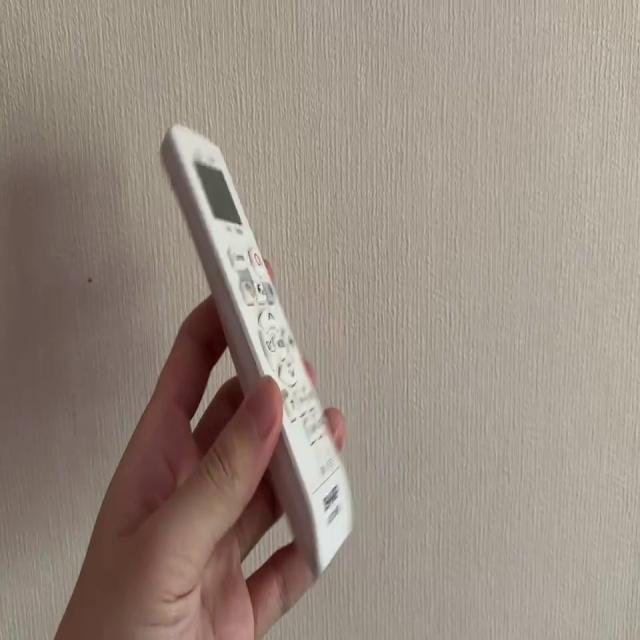remote: (162, 125, 352, 580)
